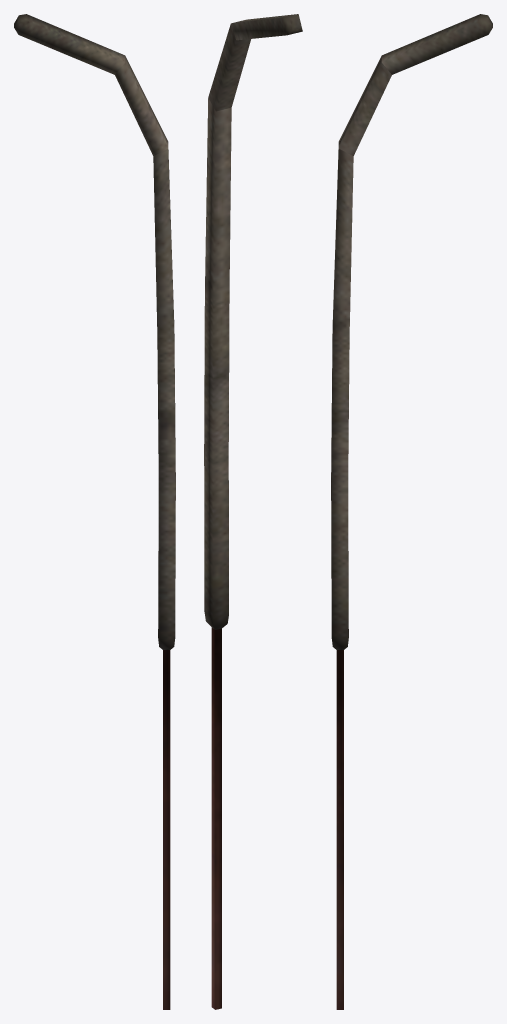
Rendered from incense04.FBX.
3 renders of one model, left to right at view 1: azimuth 90°, elevation 25°; view 2: azimuth 210°, elevation 25°; view 3: azimuth 270°, elevation 25°, orthographic. The views are drawn at different scales.
Visible parts, largest first — view 1: SM_Incense04; view 2: SM_Incense04; view 3: SM_Incense04.
Part boxes in pixels (box(x1,y1,x2,y2)): SM_Incense04: box(14, 14, 175, 1009); SM_Incense04: box(204, 14, 302, 1009); SM_Incense04: box(331, 14, 492, 1009).
Size of the model in its own units: 0.3017 by 19.31 by 2.86.
1 material, 1 textured.
